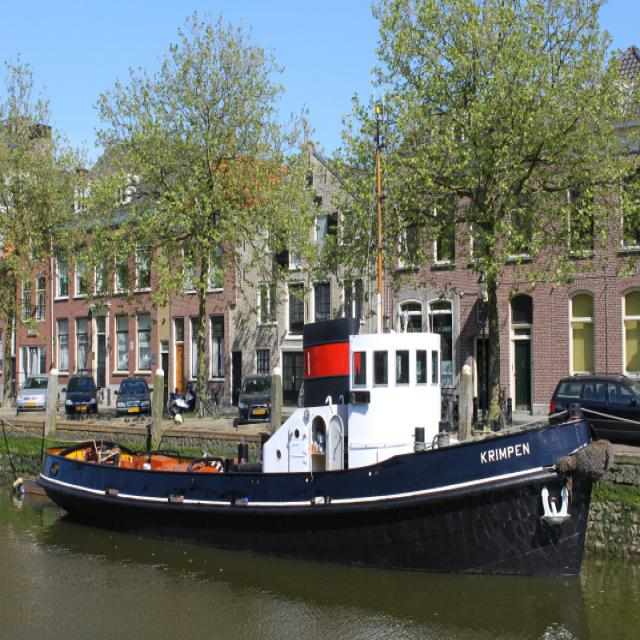tugboat: (33, 311, 619, 591)
